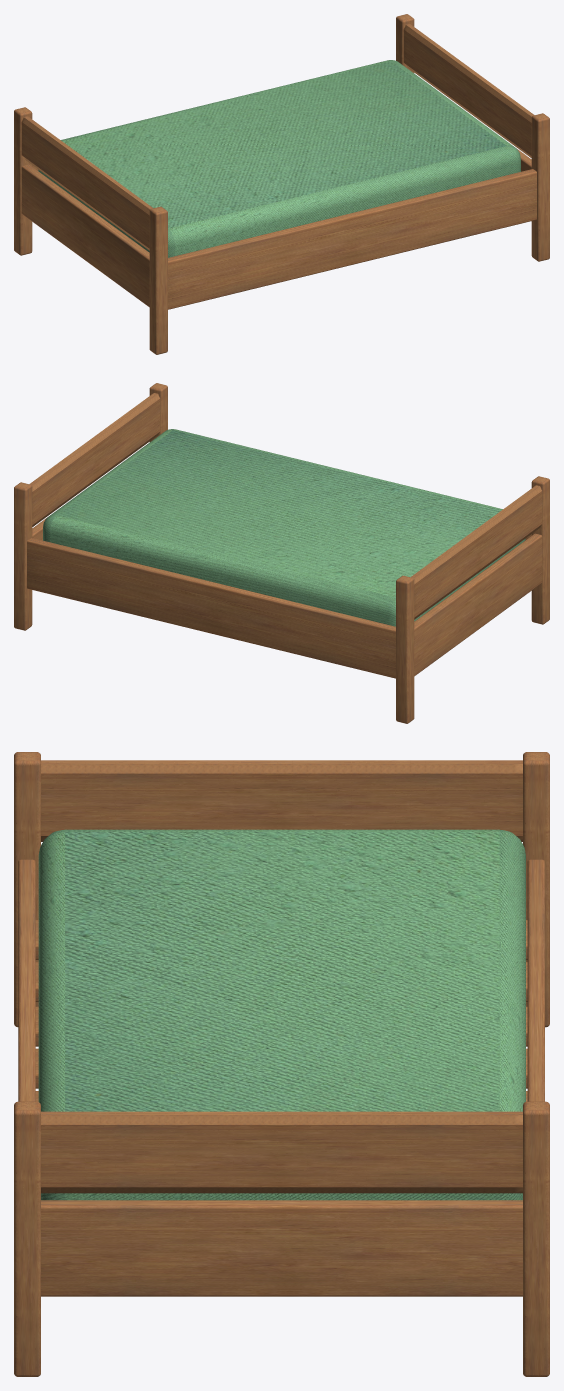
File: Bed.glb
The picture shows the model from 3 angles, top to bottom: view 1: azimuth 30°, elevation 25°; view 2: azimuth 150°, elevation 25°; view 3: azimuth 270°, elevation 25°; orthographic projection. The views are drawn at different scales.
Visible parts, largest first — view 1: mattress, Cube.2.4, Cube.2.2, Cube.3.2, Cube.3, Cube.2.3, Cube, Cube.1.2, Cube.1; view 2: mattress, Cube.3.3, Cube.2.2, Cube.3.2, Cube.3, Cube.1.2, Cube.1, Cube.2.3, Cube; view 3: mattress, Cube.2, Cube.3, Cube.3.2, Cube, Cube.1, Cube.3.3, Cube.2.4, Cube.2.3, Cube.1.2.
Part boxes in pixels (x1=…): mattress: x1=38, y1=60, x2=520, y2=257; Cube.2.4: x1=168, y1=169, x2=536, y2=309; Cube.2.2: x1=21, y1=164, x2=149, y2=307; Cube.3.2: x1=21, y1=116, x2=152, y2=250; Cube.3: x1=403, y1=24, x2=534, y2=157; Cube.2.3: x1=149, y1=206, x2=167, y2=354; Cube: x1=531, y1=113, x2=549, y2=261; Cube.1.2: x1=14, y1=107, x2=32, y2=255; Cube.1: x1=396, y1=14, x2=414, y2=72; mattress: x1=43, y1=429, x2=525, y2=626; Cube.3.3: x1=27, y1=538, x2=395, y2=678; Cube.2.2: x1=414, y1=533, x2=542, y2=676; Cube.3.2: x1=411, y1=485, x2=542, y2=619; Cube.3: x1=29, y1=393, x2=160, y2=526; Cube.1.2: x1=396, y1=575, x2=414, y2=723; Cube.1: x1=14, y1=482, x2=32, y2=630; Cube.2.3: x1=531, y1=476, x2=549, y2=624; Cube: x1=149, y1=383, x2=167, y2=441; mattress: x1=38, y1=829, x2=525, y2=1200; Cube.2: x1=41, y1=1200, x2=522, y2=1296; Cube.3: x1=41, y1=1111, x2=522, y2=1193; Cube.3.2: x1=41, y1=760, x2=522, y2=841; Cube: x1=14, y1=1101, x2=40, y2=1376; Cube.1: x1=523, y1=1101, x2=549, y2=1376; Cube.3.3: x1=527, y1=859, x2=544, y2=1101; Cube.2.4: x1=18, y1=859, x2=35, y2=1101; Cube.2.3: x1=14, y1=752, x2=40, y2=1027; Cube.1.2: x1=523, y1=752, x2=549, y2=1027.
Bounding box in the file's own units: 6135 × 2109 × 3847.
19 materials, 19 textured.
